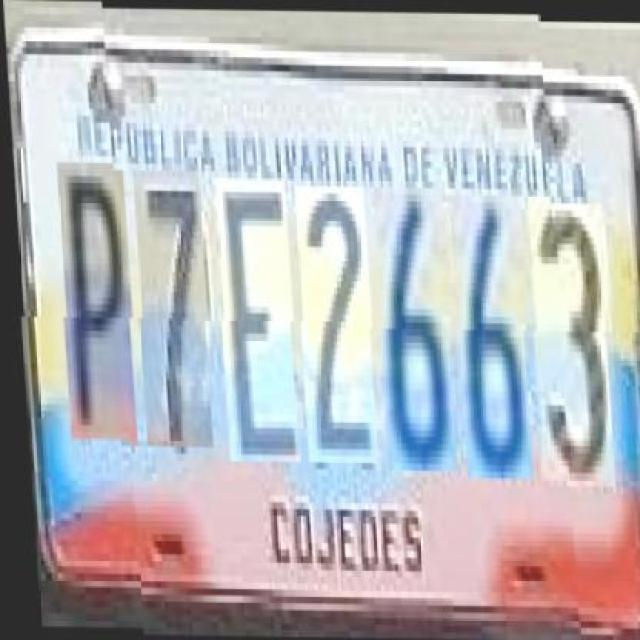2: (292, 185, 376, 462)
3: (525, 194, 613, 478)
6: (370, 185, 455, 470), (450, 193, 530, 478)
7: (131, 170, 211, 447)
e: (212, 177, 297, 461)
p: (56, 169, 136, 446)
